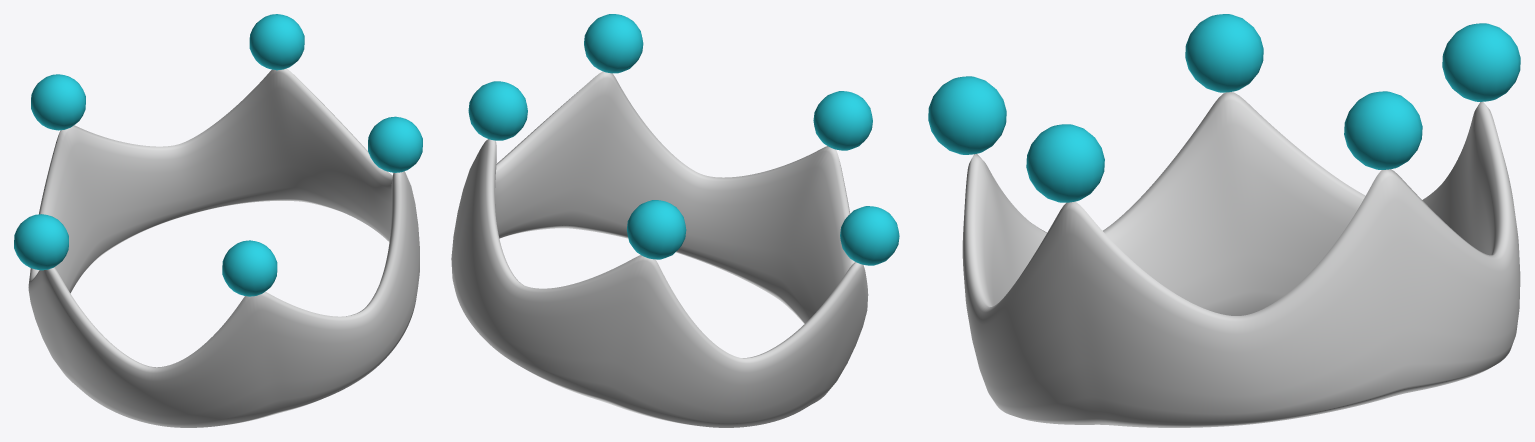
Rendered from crown.glb.
The picture shows the model from 3 angles, left to right: view 1: azimuth 30°, elevation 25°; view 2: azimuth 150°, elevation 25°; view 3: azimuth 270°, elevation 25°; orthographic projection. The views are drawn at different scales.
Visible parts, largest first — view 1: Crown, CrownGems; view 2: Crown, CrownGems; view 3: Crown, CrownGems.
Part boxes in pixels (box(x1,y1,x2,y2)): Crown: box(28, 68, 419, 427); CrownGems: box(14, 14, 422, 296); Crown: box(451, 71, 868, 427); CrownGems: box(468, 14, 899, 265); Crown: box(962, 92, 1520, 427); CrownGems: box(928, 14, 1520, 202).
Bounding box in the file's own units: 0.6659 × 0.47 × 0.63.
